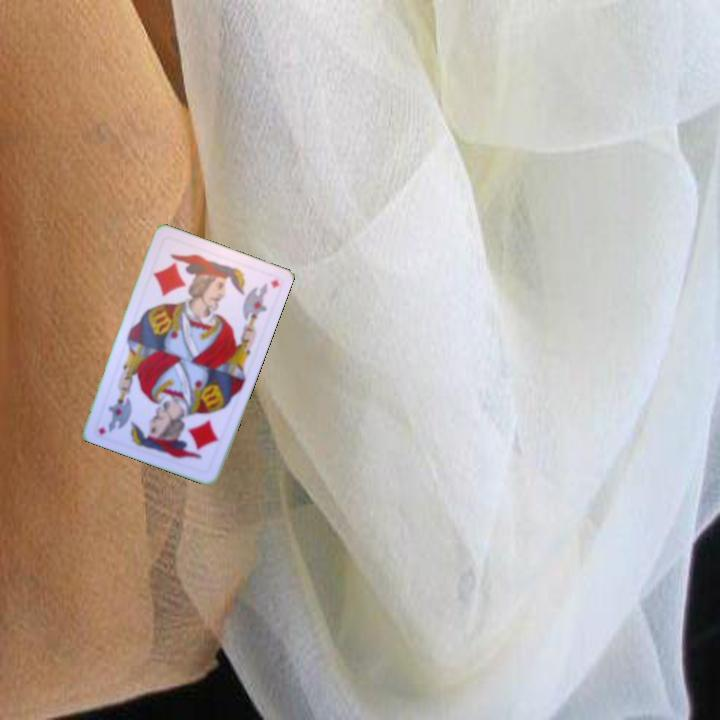d_j.png: (148, 399, 229, 475), (144, 234, 225, 310)
